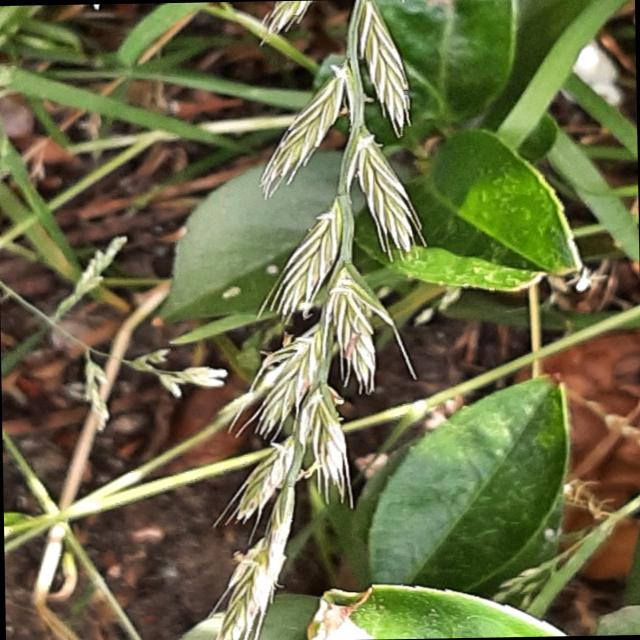Lolium: (206, 1, 425, 640)
